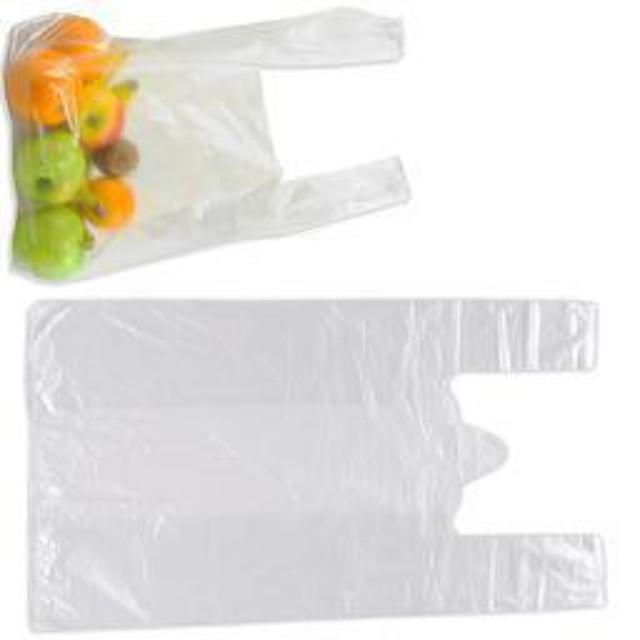Bolsa-de-nilon: (25, 300, 604, 631), (7, 6, 415, 289)
